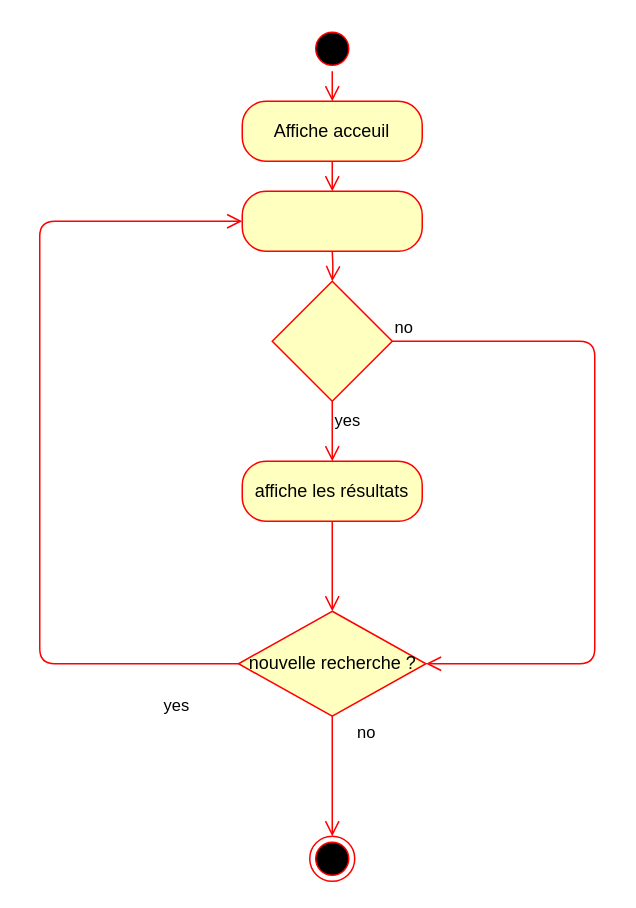
This 636x908 diagram has some shape labels left out. The shapes that lost their labels are listed below. From the top down, each one's box as (x1, y1, x2, y2) in pixels, then its label:
(241, 190, 422, 251): traitement de la recherche
(271, 280, 392, 401): résultats?
